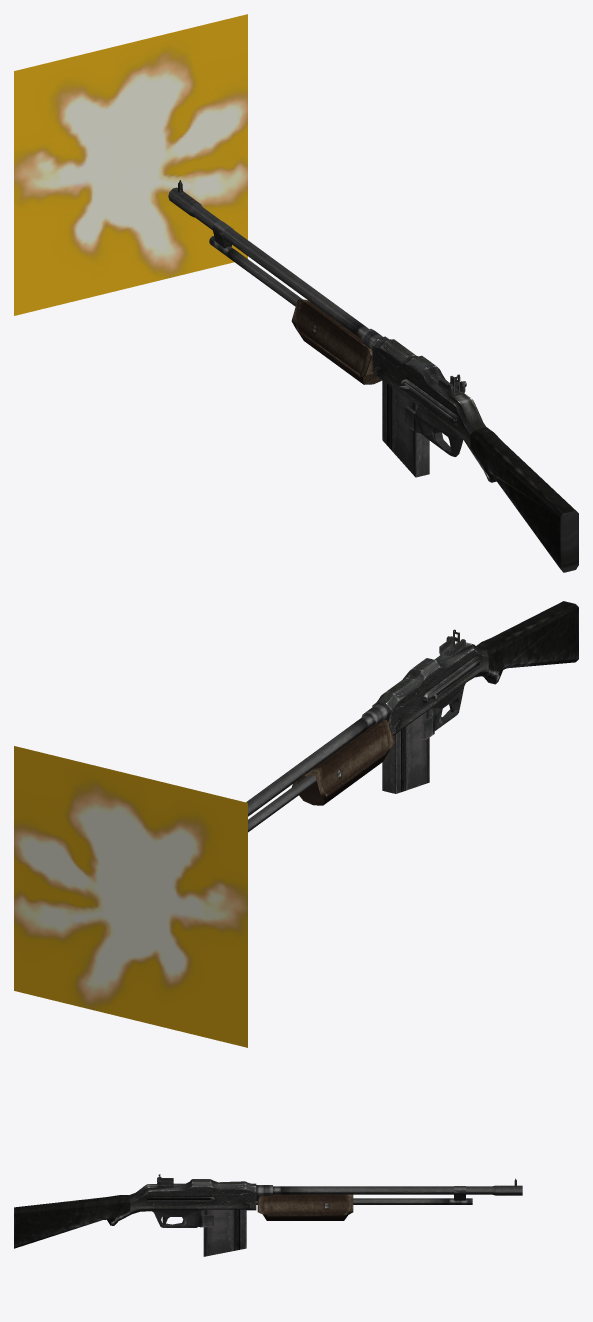
File: Wpn_BAR.fbx
3 views of the same model, one above another, from view 1: azimuth 30°, elevation 25°; view 2: azimuth 150°, elevation 25°; view 3: azimuth 270°, elevation 25° (orthographic). The views are drawn at different scales.
Visible parts, largest first — view 1: flash, fpv_weapon, magazine; view 2: flash, fpv_weapon, magazine; view 3: fpv_weapon, magazine.
Part boxes in pixels (x1,y1,x2,y2): flash: [14, 14, 247, 315]; fpv_weapon: [168, 180, 578, 572]; magazine: [382, 380, 429, 477]; flash: [14, 746, 247, 1047]; fpv_weapon: [246, 601, 578, 832]; magazine: [382, 709, 429, 793]; fpv_weapon: [14, 1174, 522, 1248]; magazine: [203, 1209, 246, 1256].
Size of the model in its own units: 42.17 by 42.17 by 137.
